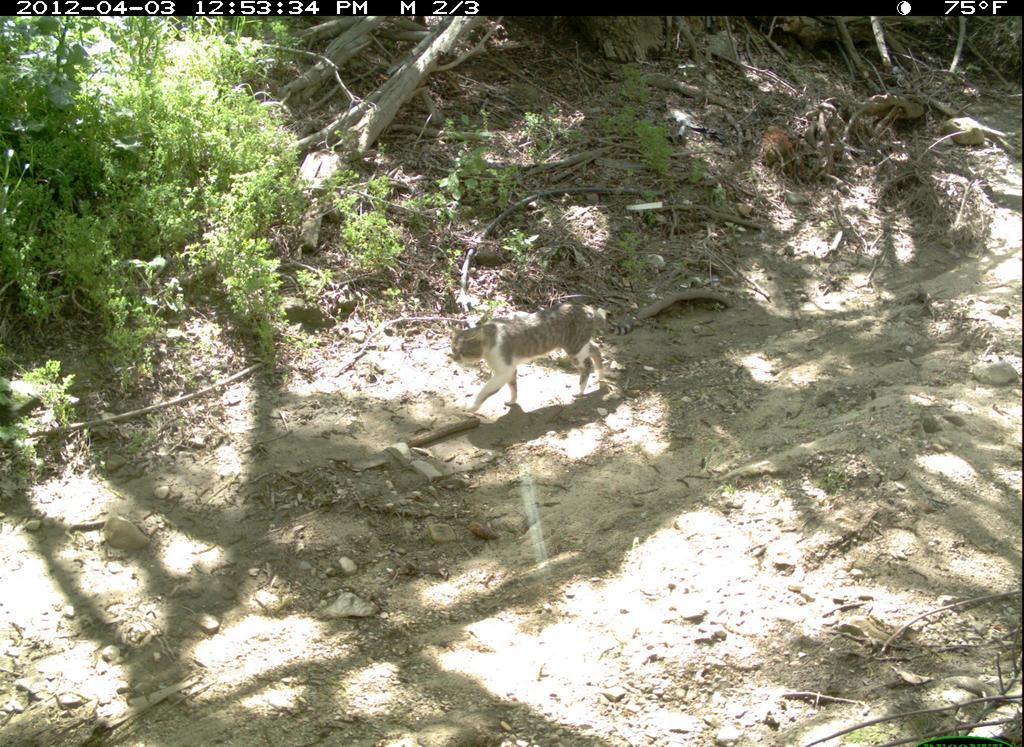cat: (449, 303, 646, 423)
